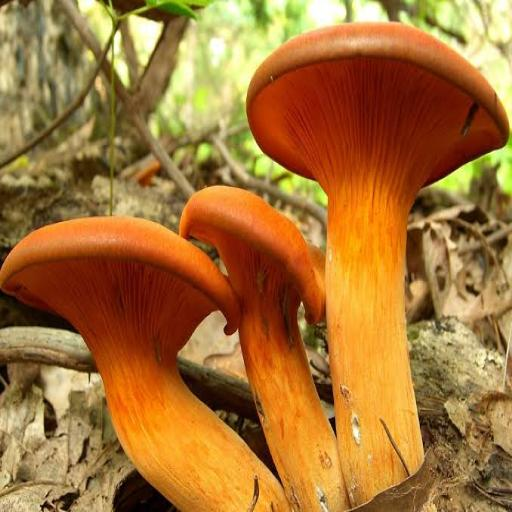Jack O Lantern Mushroom: (231, 0, 512, 512), (0, 155, 358, 512), (173, 164, 371, 512)
